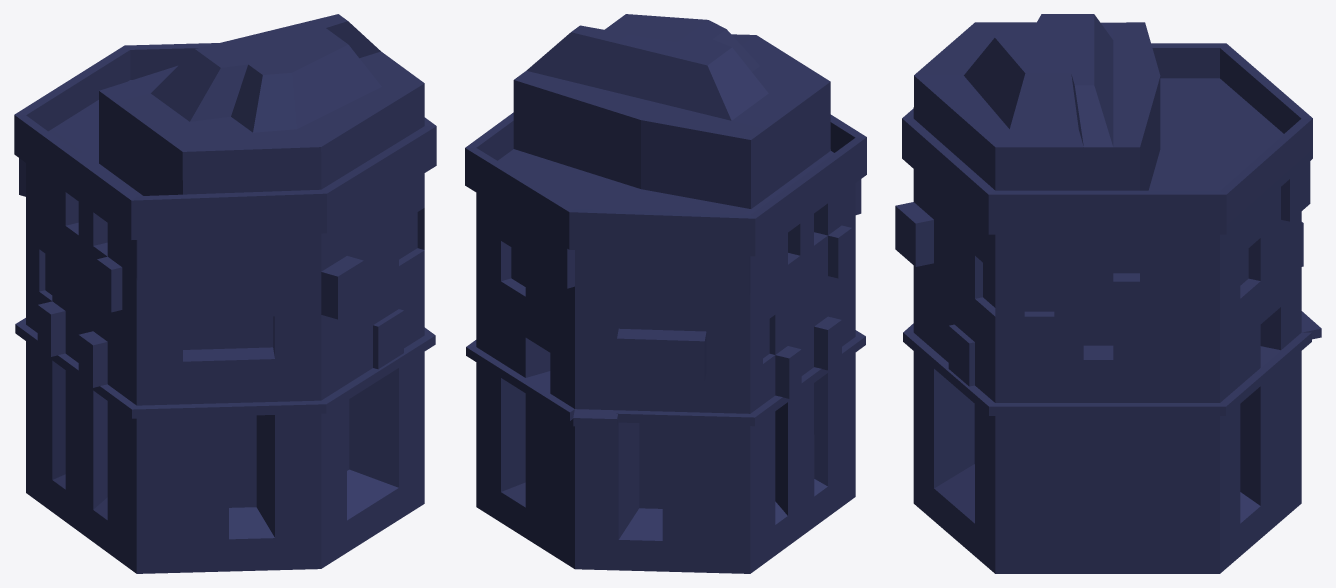
File: tile_city_3.gltf
3 renders of one model, left to right at view 1: azimuth 30°, elevation 25°; view 2: azimuth 150°, elevation 25°; view 3: azimuth 270°, elevation 25°, orthographic. The views are drawn at different scales.
Parts seen in each view (by area): view 1: ville_3; view 2: ville_3; view 3: ville_3.
Part boxes in pixels (x1=…): ville_3: x1=14, y1=14, x2=436, y2=573; ville_3: x1=465, y1=14, x2=866, y2=573; ville_3: x1=895, y1=14, x2=1321, y2=573.
Size of the model in its own units: 1.77 by 2.47 by 2.02.
1 material, 1 textured.
